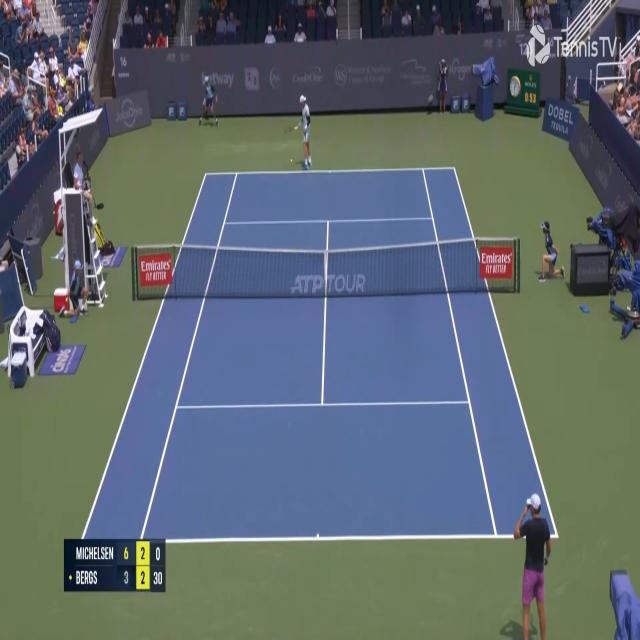tennis-player: (509, 490, 554, 639), (283, 92, 314, 172)
